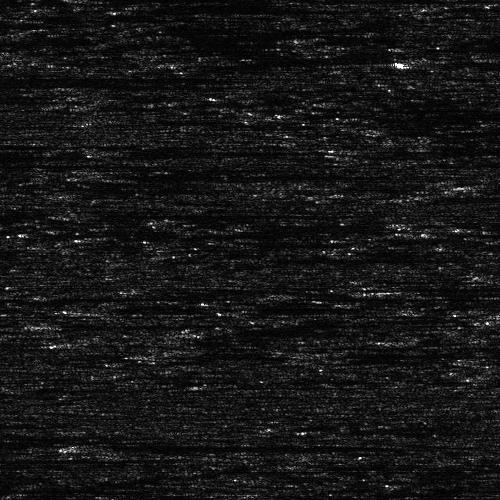object: (56, 439, 161, 448), (212, 303, 265, 312), (45, 317, 86, 328), (72, 210, 135, 217), (55, 149, 108, 154), (223, 256, 276, 261), (77, 172, 118, 177)
shadow: (0, 144, 160, 163), (108, 439, 439, 448), (0, 73, 183, 84), (66, 317, 229, 328), (104, 210, 348, 217), (239, 303, 408, 312), (0, 73, 210, 80), (98, 172, 344, 177), (0, 432, 157, 439), (250, 256, 420, 261), (81, 149, 248, 154), (0, 455, 160, 460), (0, 155, 40, 168), (0, 96, 58, 103), (0, 304, 21, 311)
